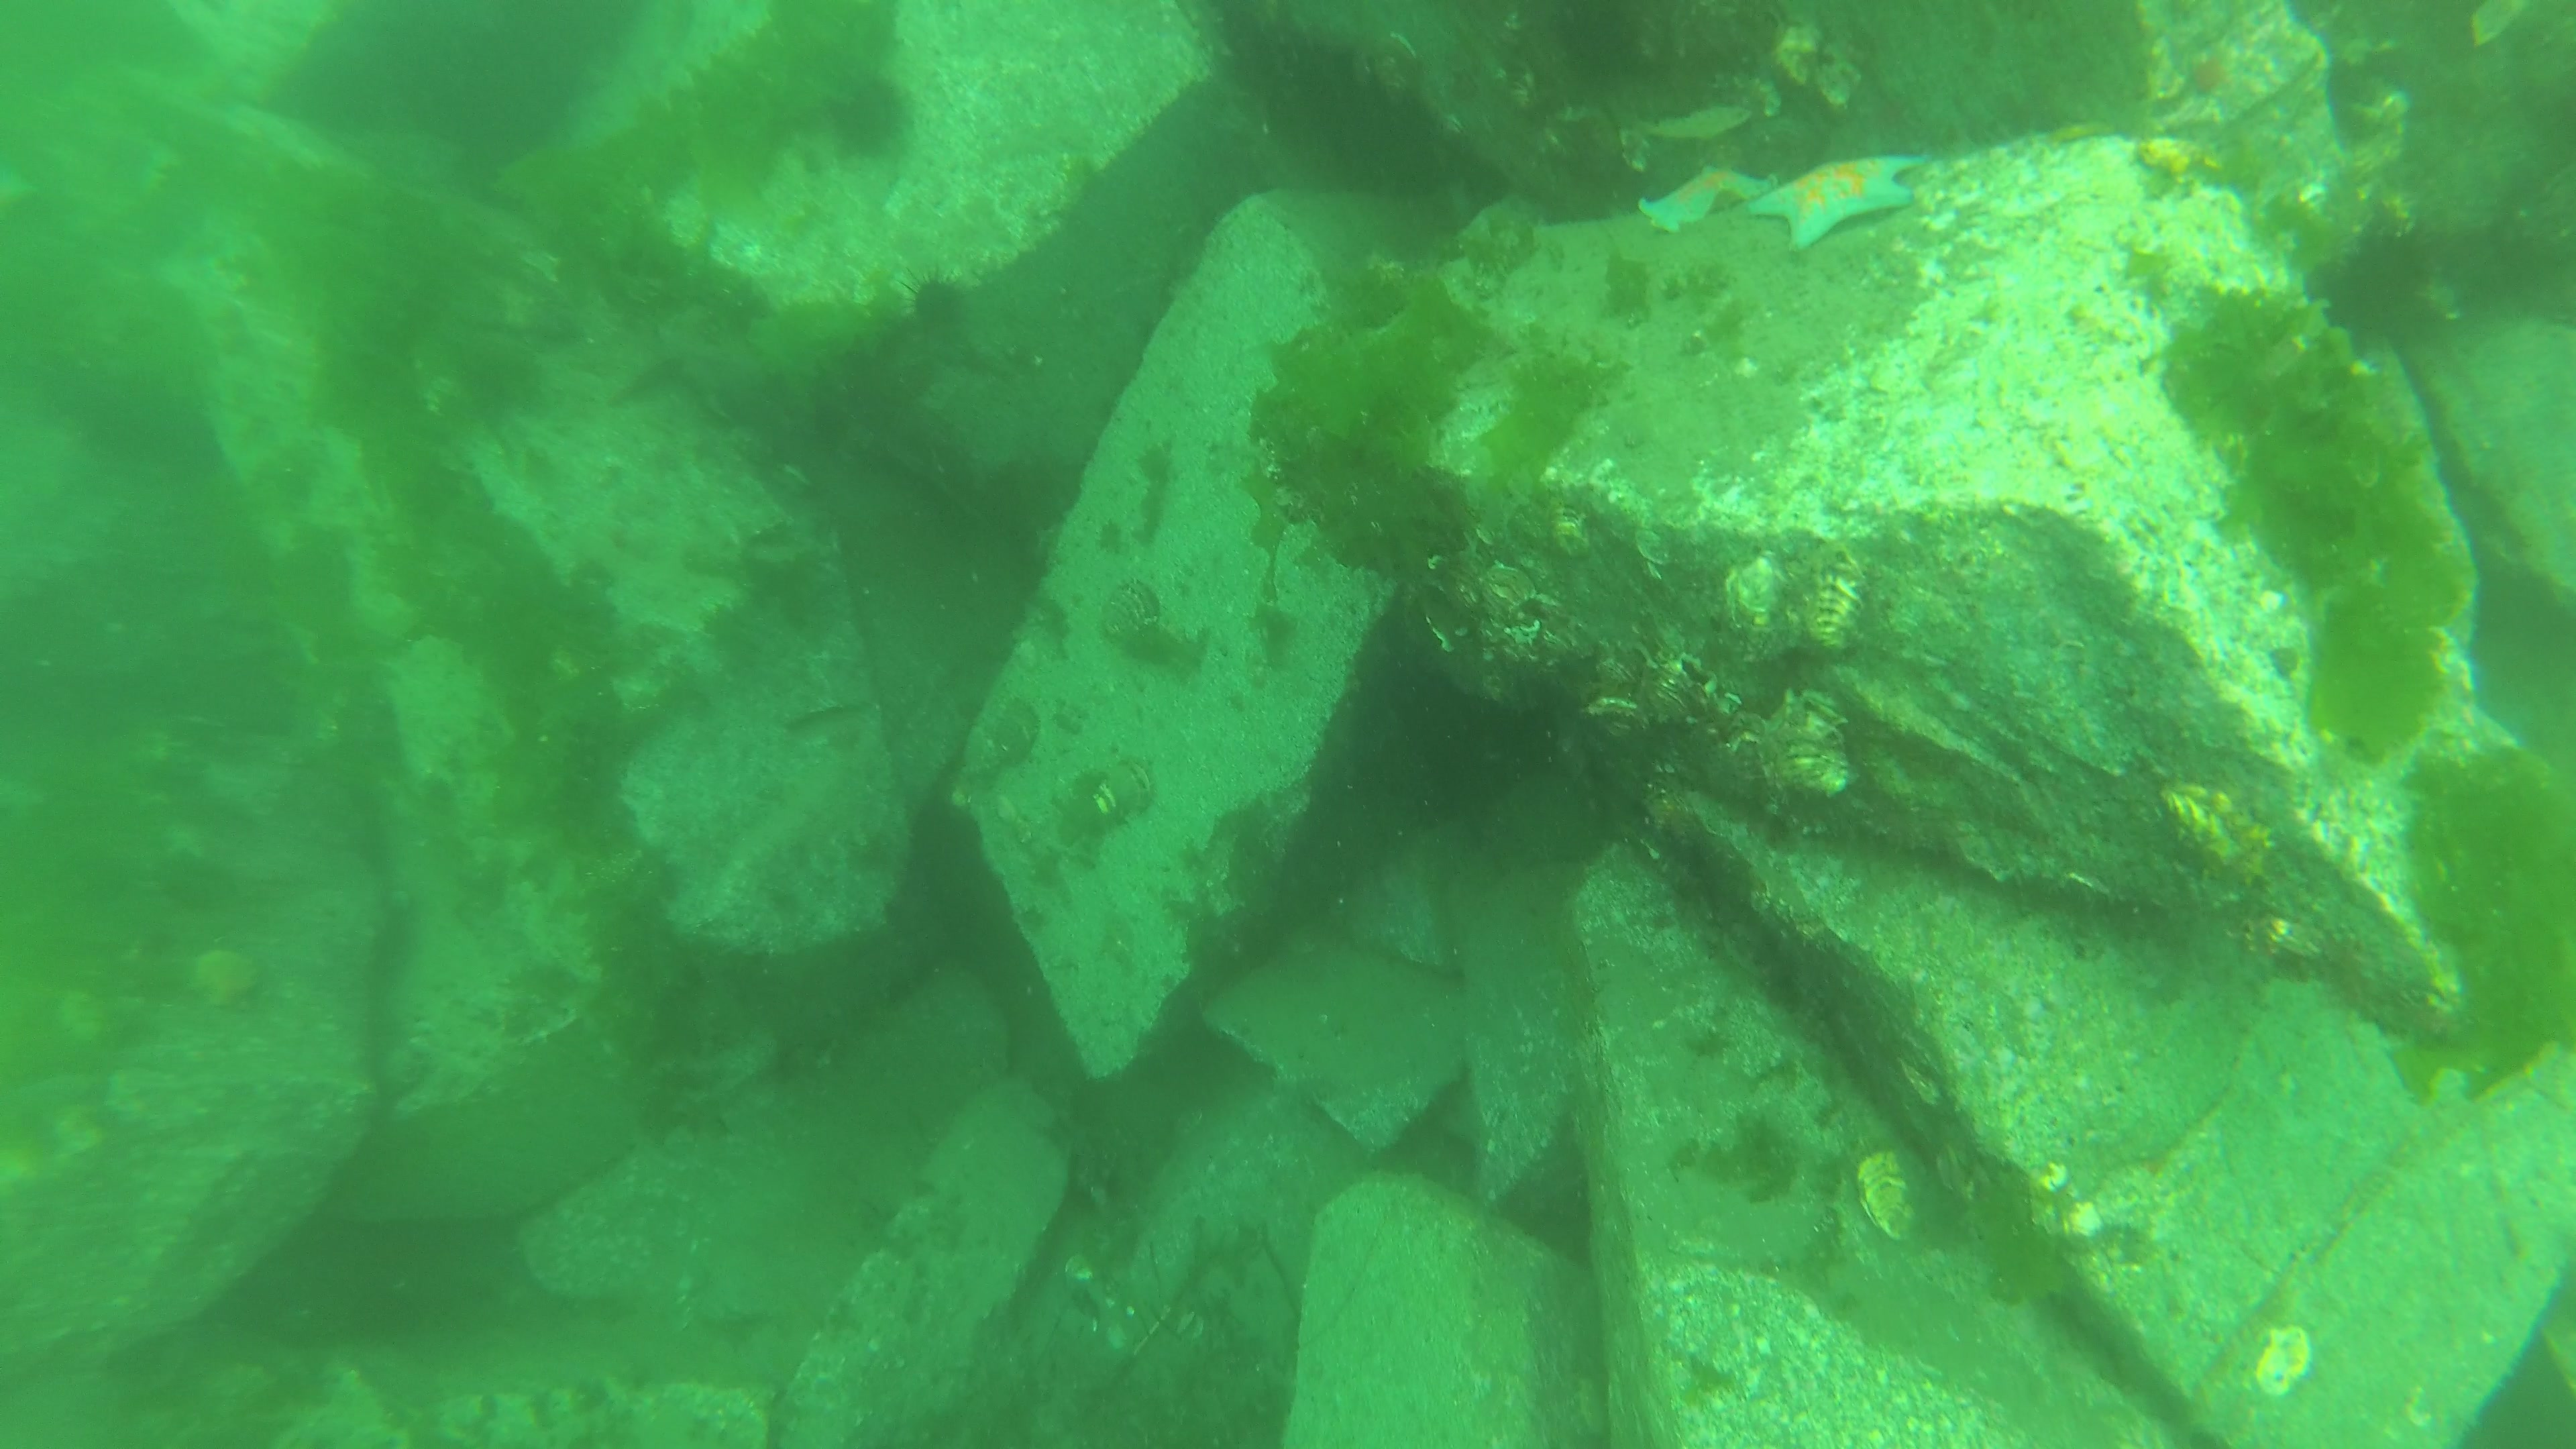echinus: (828, 76, 920, 163), (908, 264, 975, 345)
starfish: (1752, 147, 1925, 248), (1628, 157, 1780, 230)
